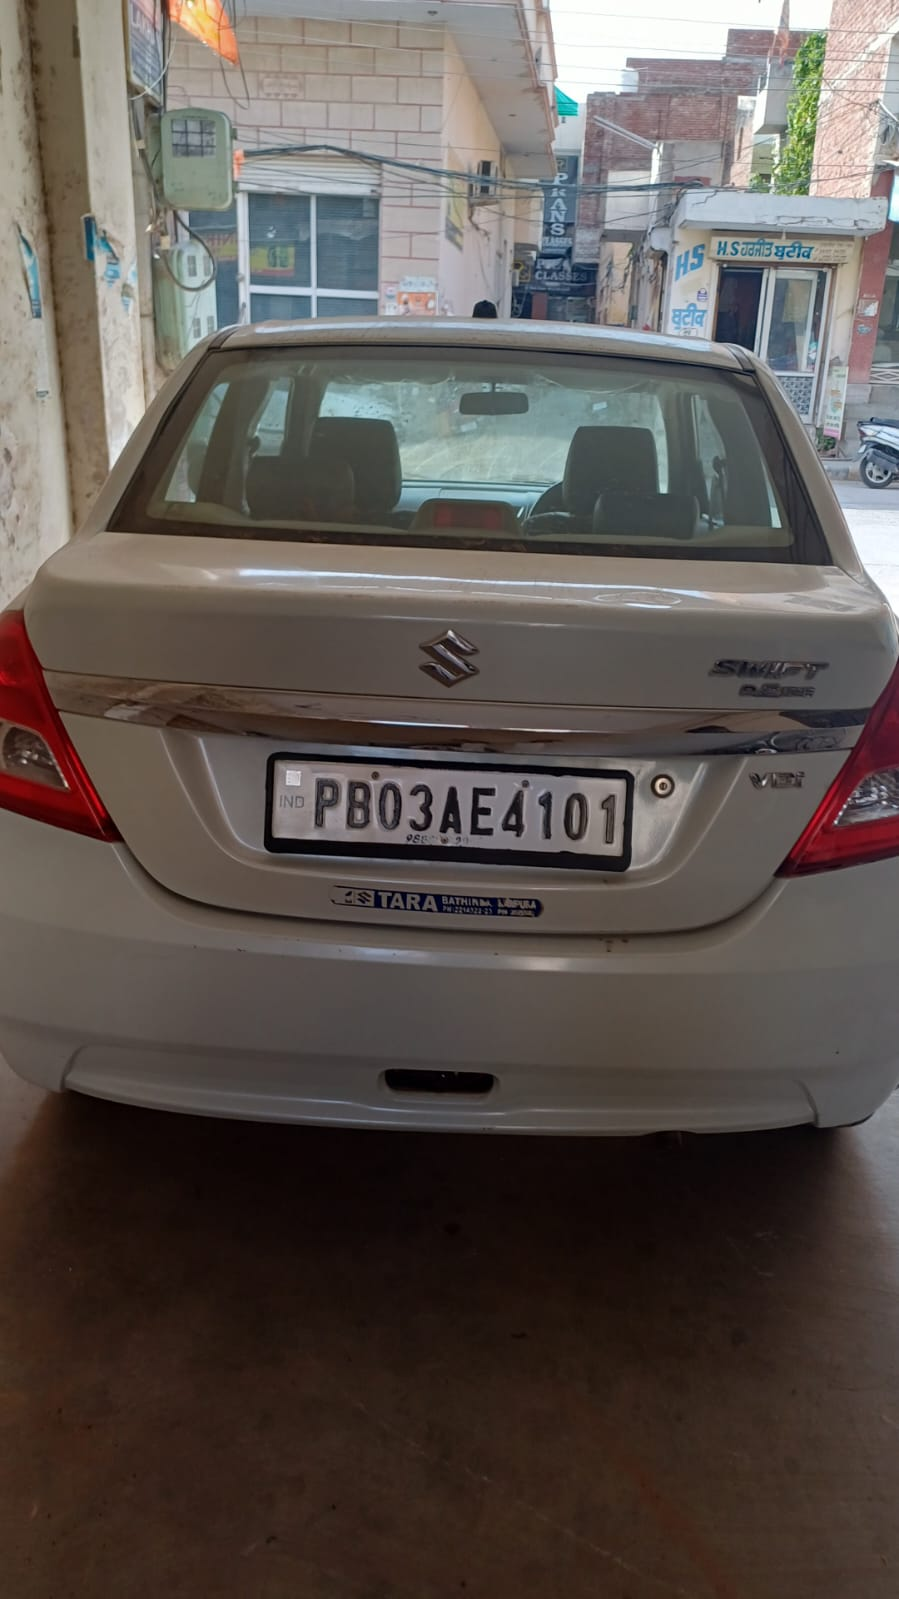license plate: (266, 755, 632, 870)
